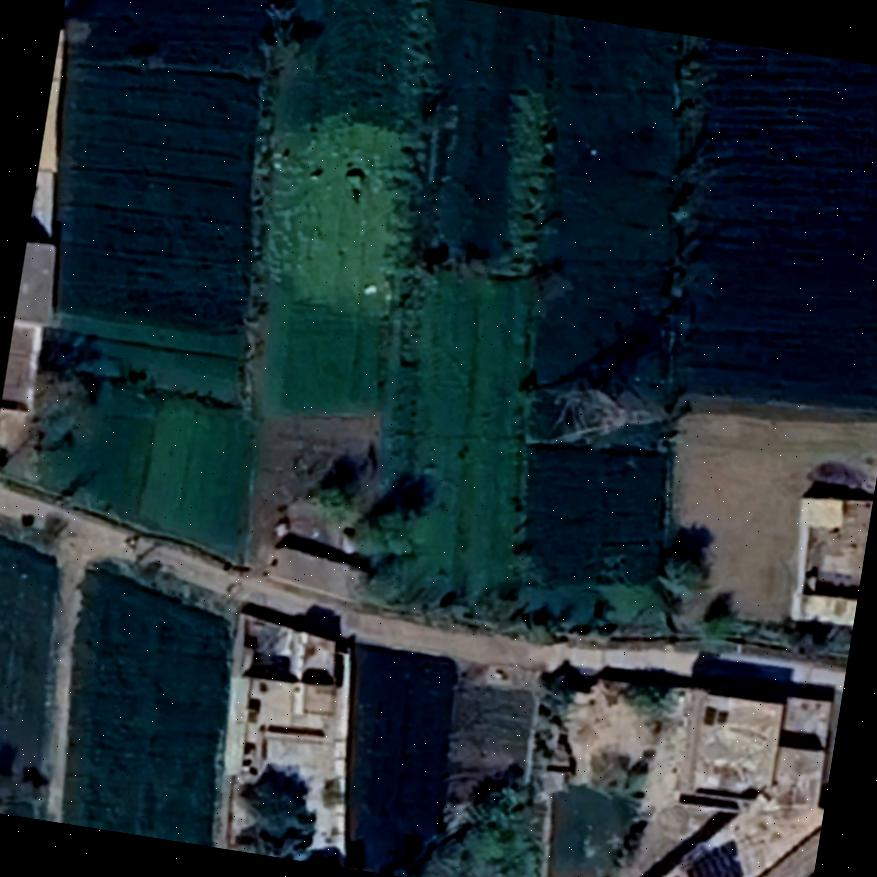Solarpanel: (684, 841, 741, 877), (702, 703, 728, 729)
